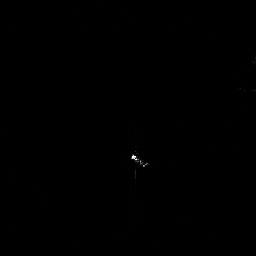ship: (129, 152, 149, 168)
